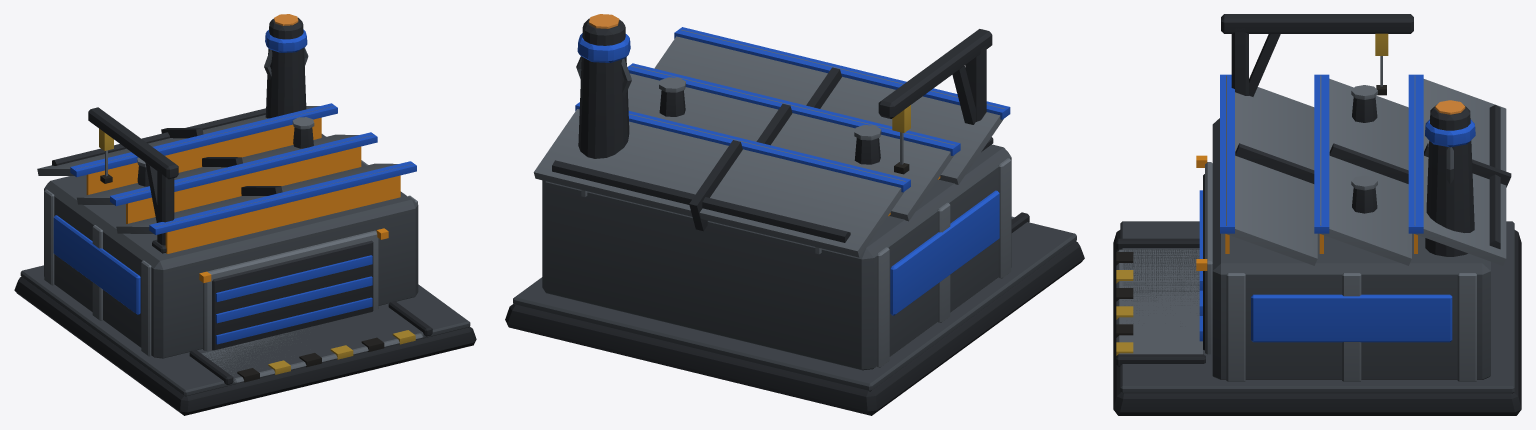
The model's file is fab-plant.glb.
The picture shows the model from 3 angles, left to right: view 1: azimuth 30°, elevation 25°; view 2: azimuth 150°, elevation 25°; view 3: azimuth 270°, elevation 25°; orthographic projection. The views are drawn at different scales.
Visible parts, largest first — view 1: hull; view 2: hull; view 3: hull.
Part boxes in pixels (box(x1,y1,x2,y2)): hull: box(14, 14, 476, 415); hull: box(505, 14, 1084, 415); hull: box(1113, 14, 1521, 415).
Bounding box in the file's own units: 1.91 × 1.45 × 1.91.
